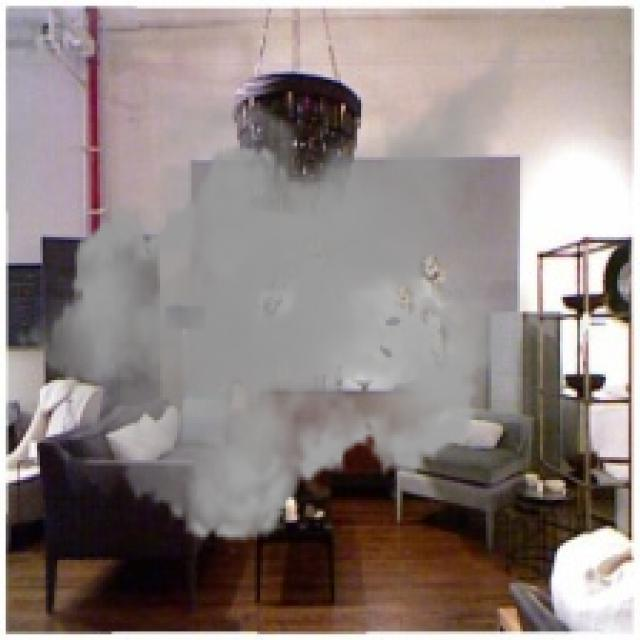Smoke: (14, 2, 537, 558)
